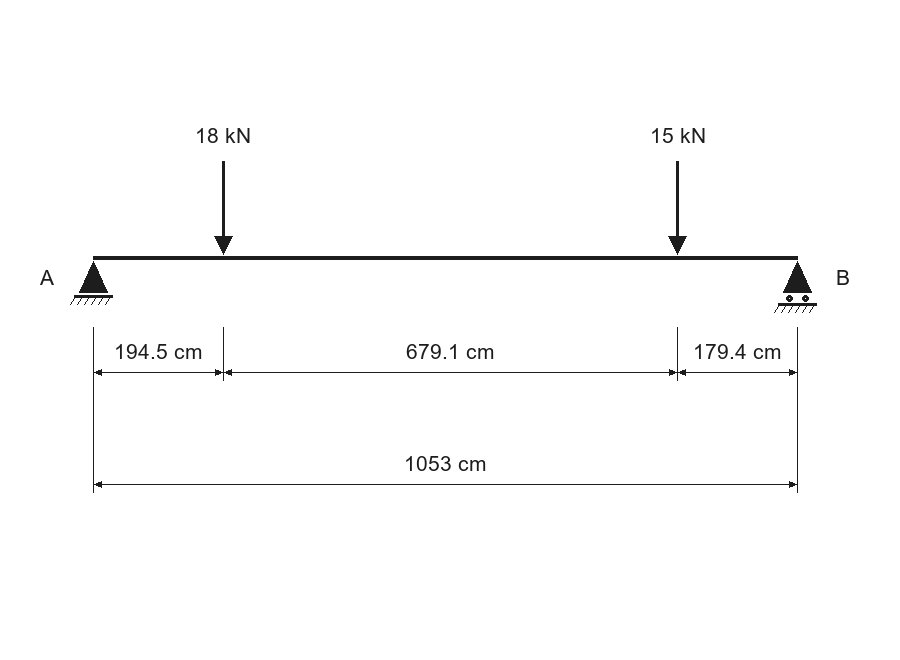pin_support: (70, 261, 113, 305)
point_load: (214, 161, 233, 255), (668, 161, 687, 255)
roller_support: (774, 261, 817, 313)
